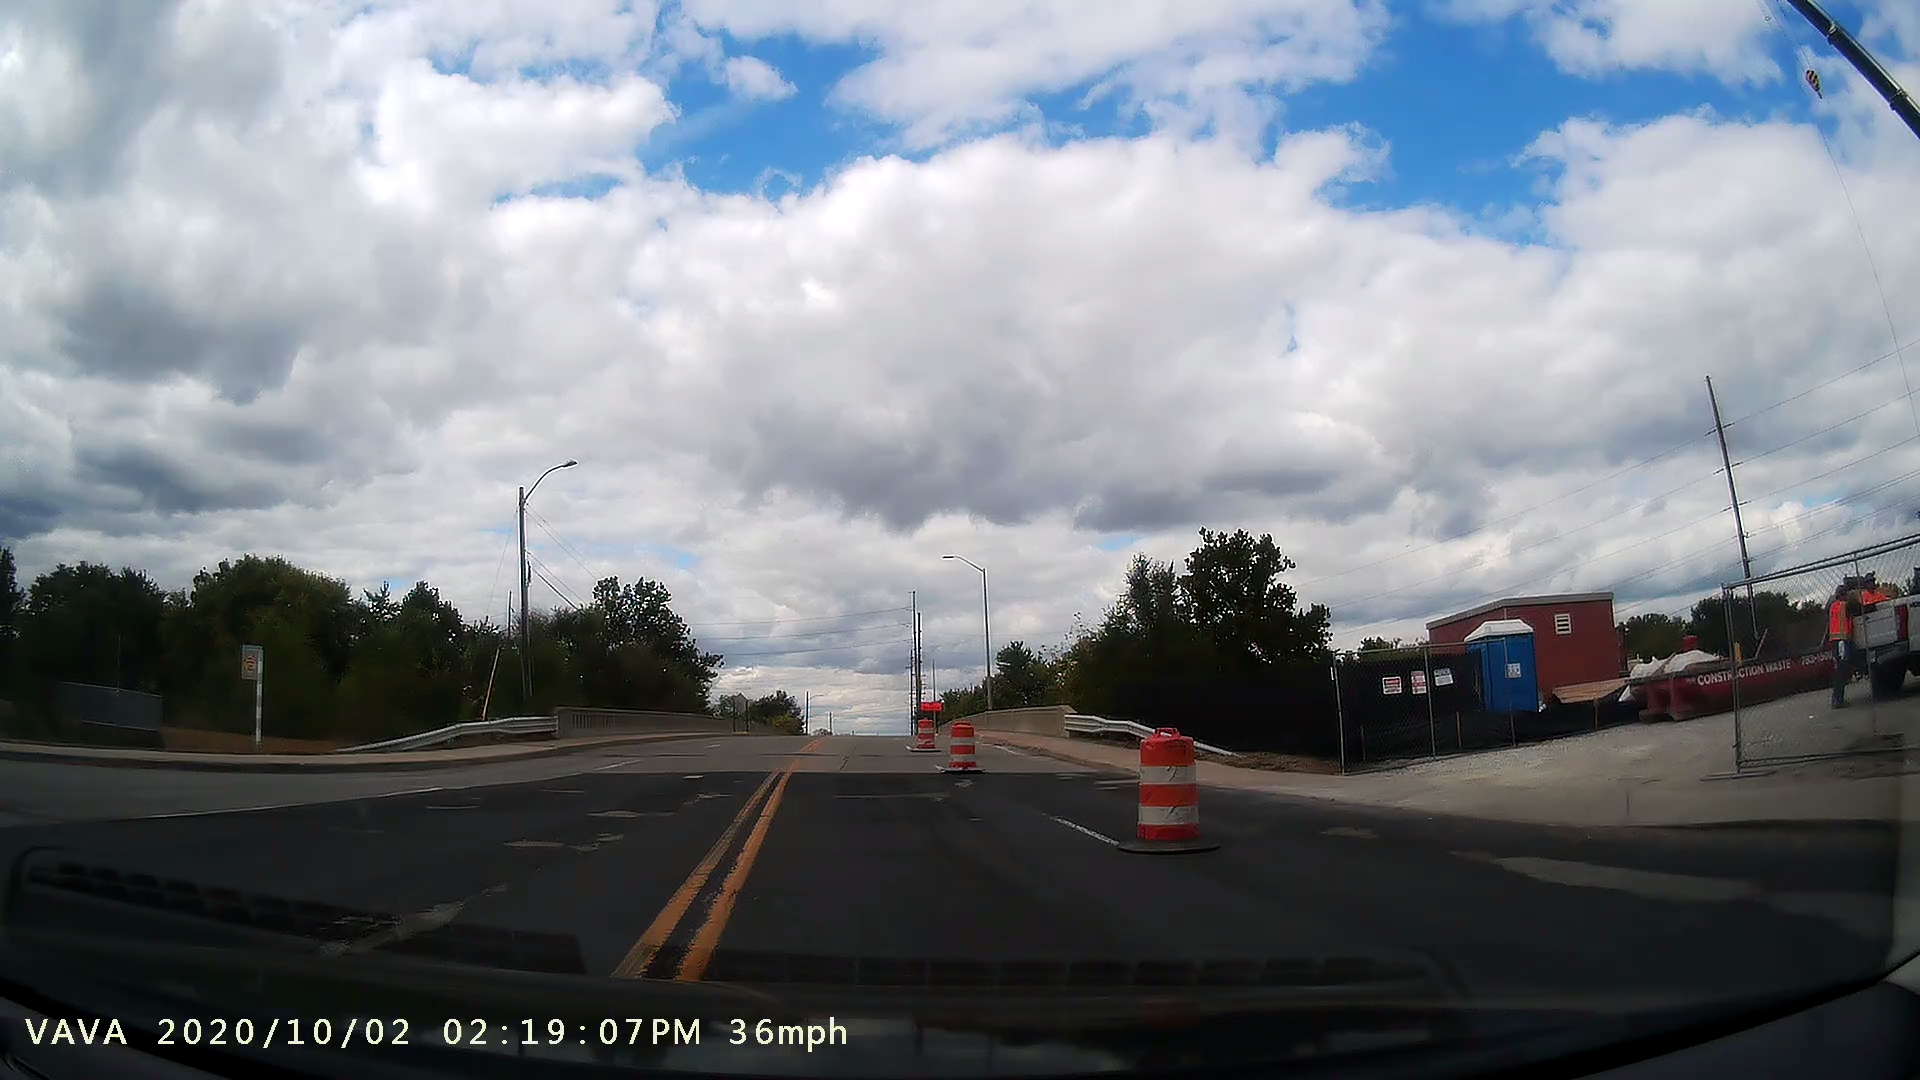const_barrel: (1102, 700, 1221, 855), (942, 713, 982, 777)
